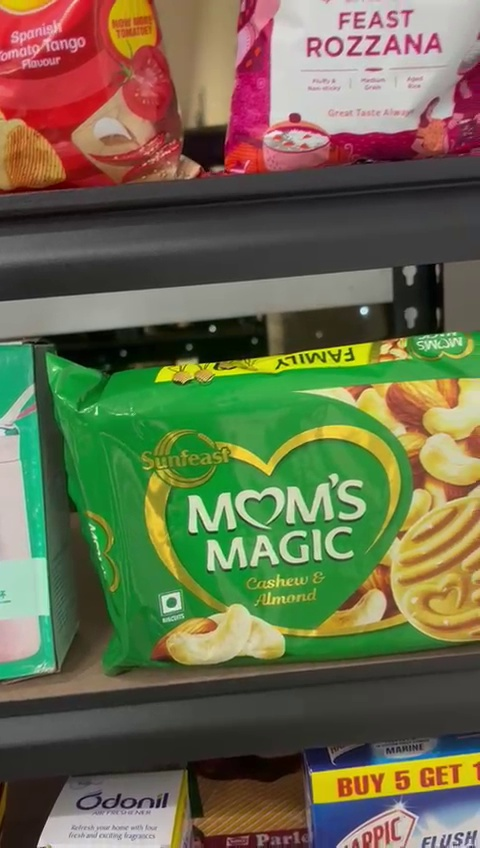Moms magic: (61, 368, 480, 655)
